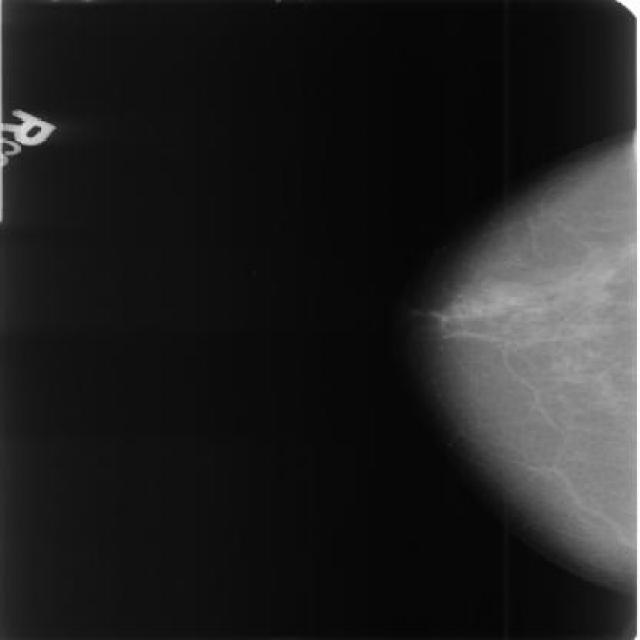tumor: (464, 258, 626, 369)
